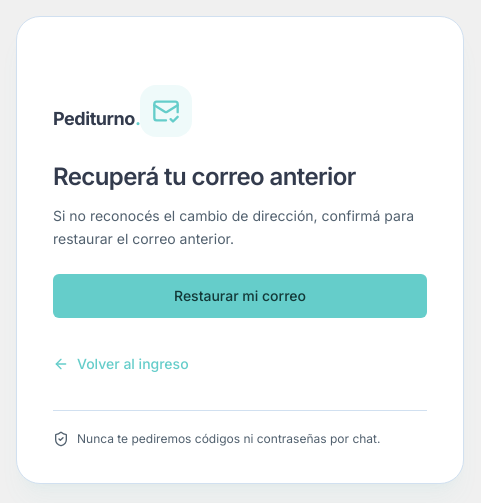
Test: email action page › stops recovery after the provider rejects confirmation with auth/expired-action-code
The image size is (481, 503).
Click the button "Restaurar mi correo" at (240, 296), box [53,274,427,318]
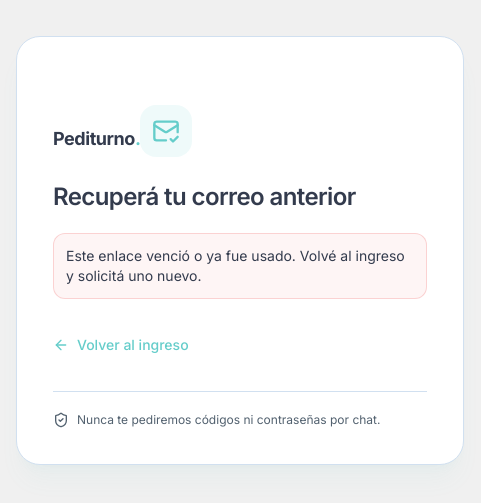
Expected: the message shows "venció o ya fue usado", [66,246,405,284]
Expected: the button "Restaurar mi correo" is gone
